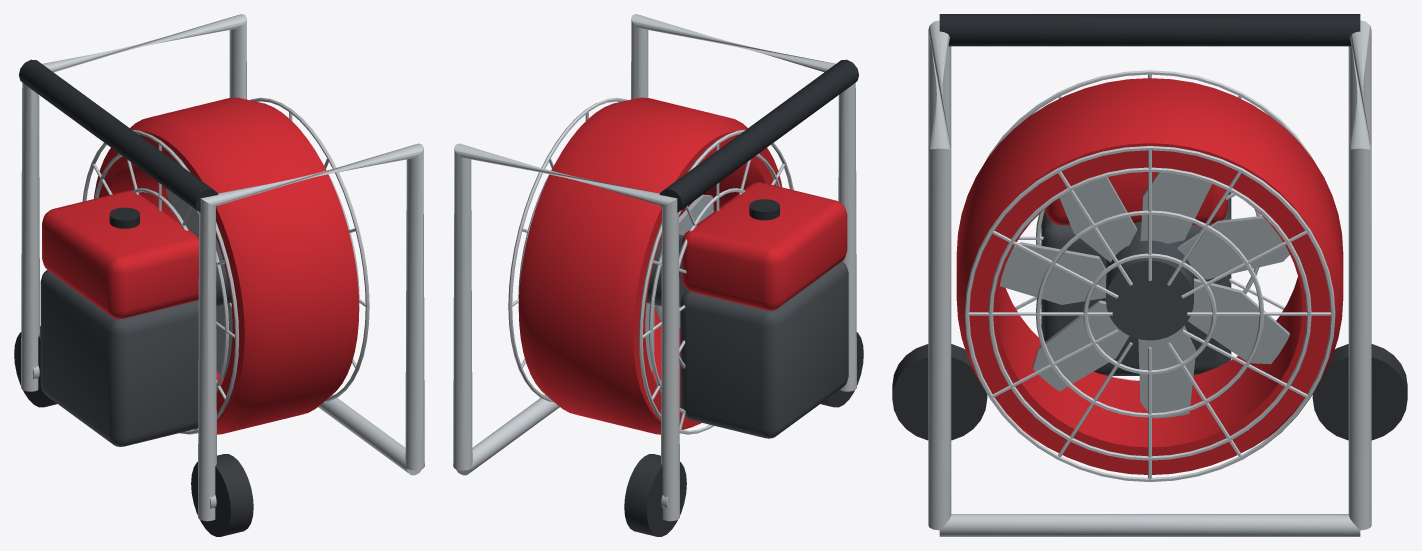
Rendered from ppv_fan.glb.
3 renders of one model, left to right at view 1: azimuth 30°, elevation 25°; view 2: azimuth 150°, elevation 25°; view 3: azimuth 270°, elevation 25°, orthographic. The views are drawn at different scales.
Parts seen in each view (by area): view 1: ppv_fan; view 2: ppv_fan; view 3: ppv_fan.
Part boxes in pixels (x1,y1,x2,y2): ppv_fan: (14, 14, 424, 536); ppv_fan: (453, 14, 863, 536); ppv_fan: (892, 14, 1407, 536).
Size of the model in its own units: 0.2923 by 0.3642 by 0.4137.
